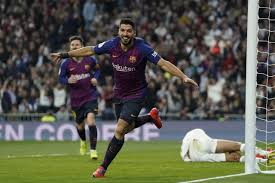barcelona: (95, 27, 176, 174), (57, 37, 100, 161)
realmadrid: (177, 124, 274, 170)
